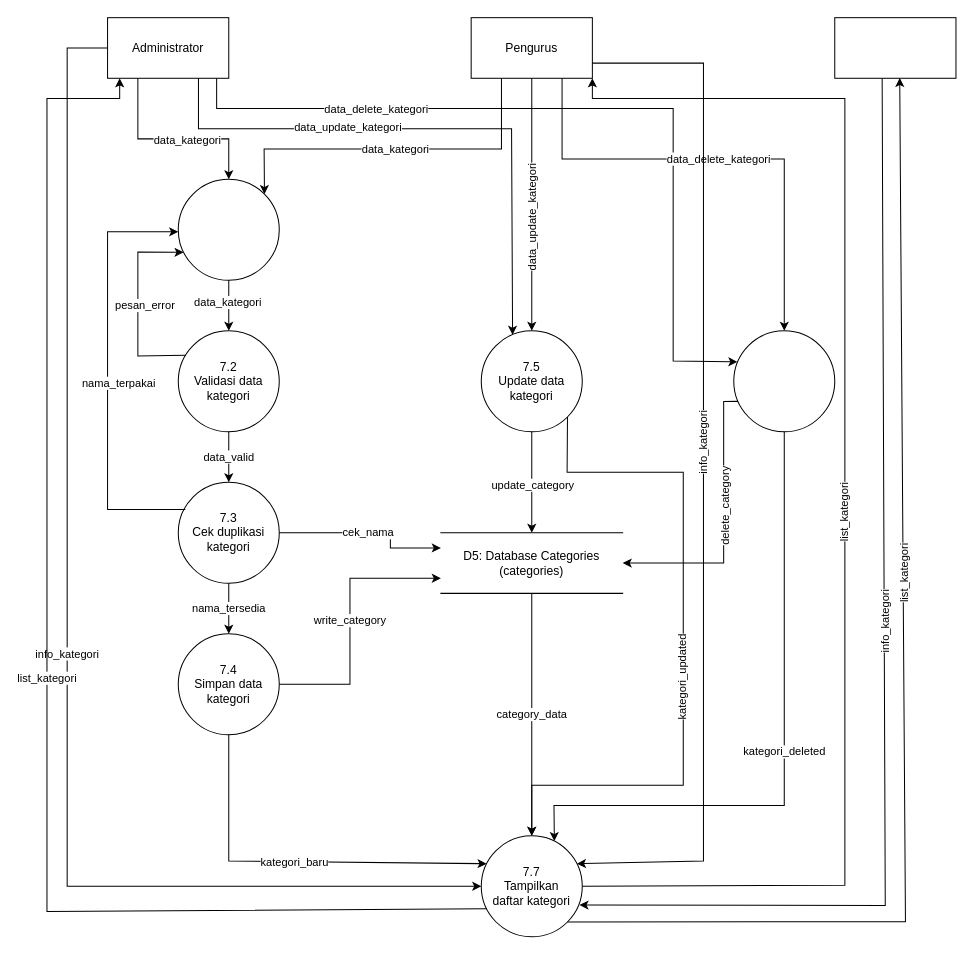
Image size: 974x954. Some labels were removed from this diagram. Each missing label, with the centre of its shape:
"7.1 Input data kategori" belongs at (228,229).
"7.6 Delete data kategori" belongs at (784,381).
"Anggota" belongs at (895,47).
